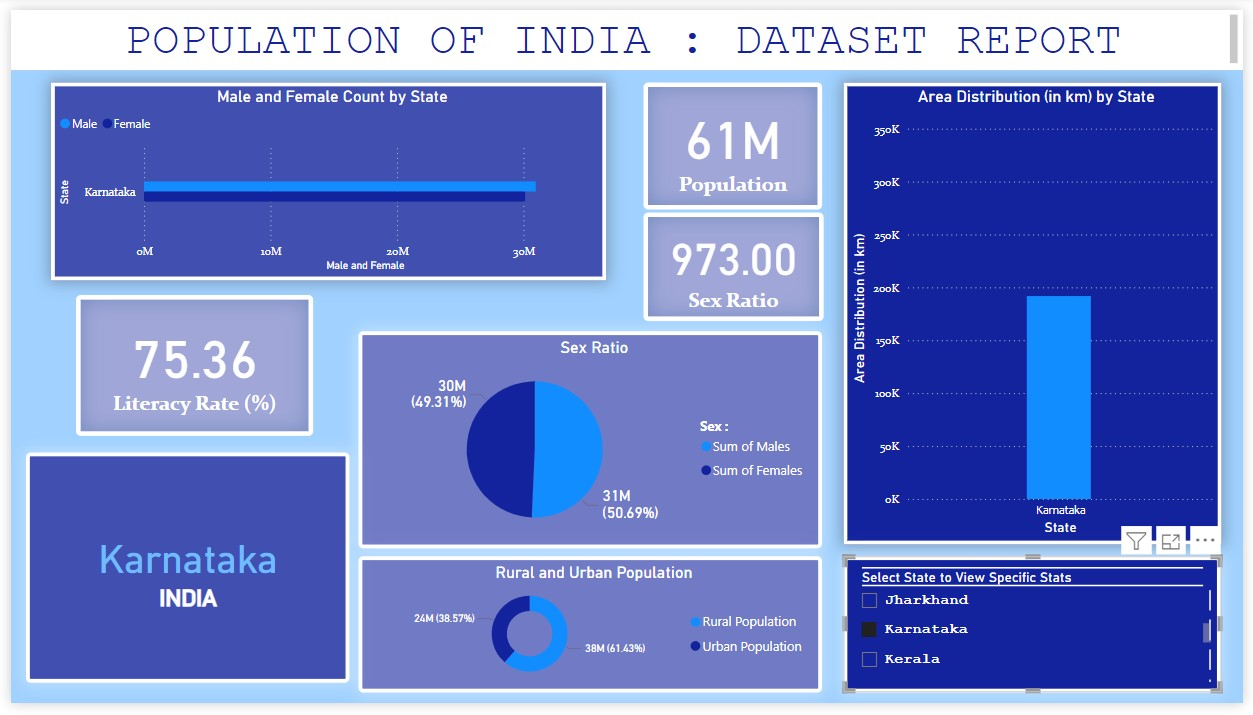

This screenshot's page, from the dashboard's own definition file:
{"tool":"powerbi","page":{"name":"POPULATION OF INDIA : DATASET ANALYSIS","canvas":[1280,720],"ordinal":0},"visuals":[{"type":"clusteredBarChart","title":"Male and Female Count by State","fields":{"Category":["population.State"],"Y":["Sum(population.Males)","Sum(population.Females)"]},"box":[42,75.4,576.8,205.8],"z":0},{"type":"clusteredColumnChart","fields":{"Category":["population.State"],"Y":["Sum(population.Area (km*km))"]},"box":[865.2,75.4,392.8,479.7],"z":1000},{"type":"card","fields":{"Values":["Sum(population.Population)"]},"box":[656.5,75.4,185.5,131.9],"z":2000},{"type":"card","fields":{"Values":["Avg(population.Literacy Rate (%))"]},"box":[68.1,295.7,246.4,146.4],"z":3000},{"type":"pieChart","title":"Sex Ratio","fields":{"Y":["Sum(population.Males)","Sum(population.Females)"]},"box":[361,333.8,481.8,226],"z":4000},{"type":"donutChart","title":"Rural and Urban Population","fields":{"Y":["Sum(population.Rural Population)","Sum(population.Urban Population)"]},"box":[361.2,567.5,481.2,141.2],"z":5000},{"type":"card","fields":{"Values":["Avg(population.Sex Ratio)"]},"box":[656.5,210.1,187,113],"z":6000},{"type":"slicer","fields":{"Values":["population.State"]},"box":[865.4,566.9,392.3,141.5],"z":7000},{"type":"card","fields":{"Values":["Min(population.State)"]},"box":[15.6,459.7,336.4,239],"z":8000},{"type":"textbox","box":[0,0,1279.7,62.3],"z":9000}]}

Visuals, with their boxes in screenshot pixels (x1, y1, x2, y2), scaled from the page's 1280x720 canvas onto the 1253x715 screenshot:
"Male and Female Count by State" clusteredBarChart: crop(41, 75, 606, 279)
clusteredColumnChart - population.State x Sum(population.Area (km*km)): crop(847, 75, 1231, 551)
card - Sum(population.Population): crop(643, 75, 824, 206)
card - Avg(population.Literacy Rate (%)): crop(67, 294, 308, 439)
"Sex Ratio" pieChart: crop(353, 331, 825, 556)
"Rural and Urban Population" donutChart: crop(354, 564, 825, 704)
card - Avg(population.Sex Ratio): crop(643, 209, 826, 321)
slicer - population.State: crop(847, 563, 1231, 703)
card - Min(population.State): crop(15, 457, 345, 694)
textbox: crop(0, 0, 1252, 62)
